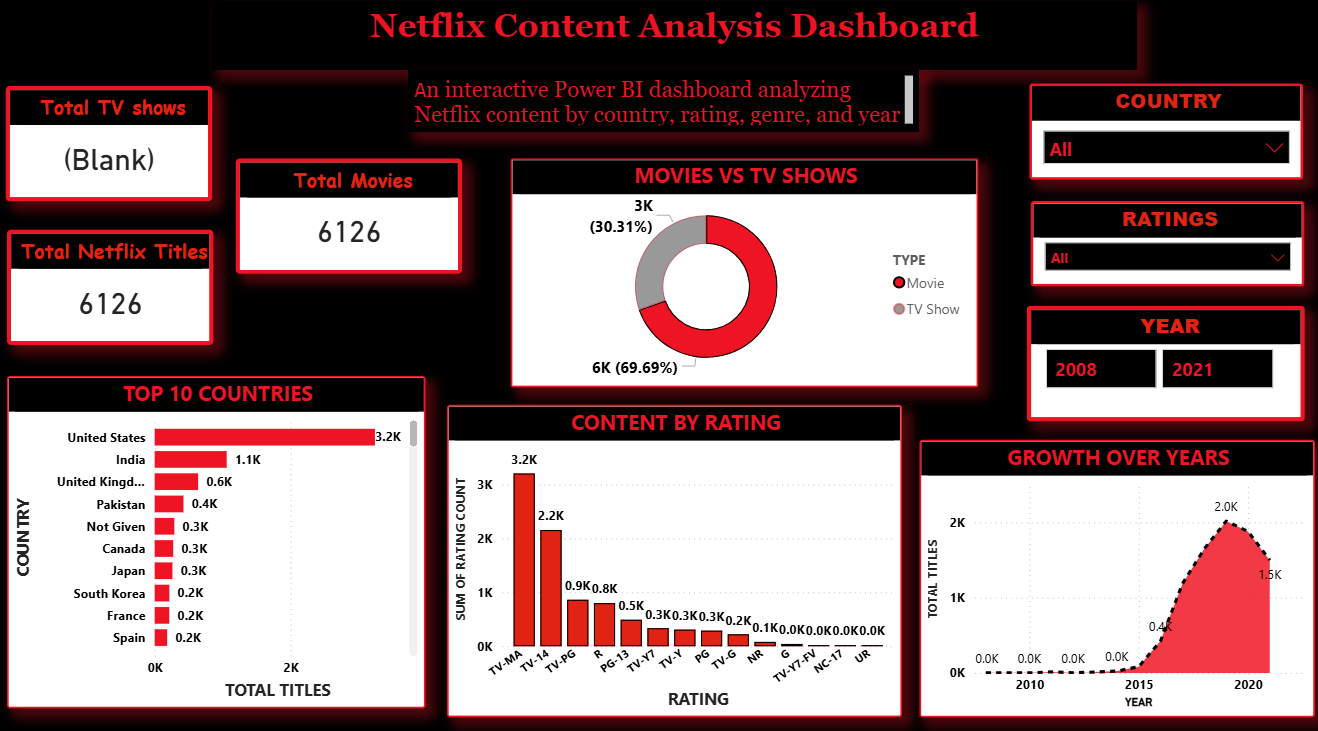

This screenshot's page, from the dashboard's own definition file:
{"tool":"powerbi","page":{"name":"Page 1","canvas":[1280,720],"ordinal":0},"visuals":[{"type":"donutChart","title":"MOVIES VS TV SHOWS","fields":{"Category":["report.TYPE"],"Y":["Sum(report.TOTAL_TITLES)"]},"box":[495.8,161.7,451.2,220.8],"z":0},{"type":"lineChart","title":"GROWTH OVER YEARS","fields":{"Category":["report (1).YEAR_ADDED"],"Y":["Sum(report (1).TITLES_ADDED)"]},"box":[890.4,433.1,381.2,267.8],"z":1000},{"type":"clusteredBarChart","title":"TOP 10 COUNTRIES","fields":{"Category":["report (2).COUNTRY"],"Y":["Sum(report (2).TOTAL_TITLES)"]},"box":[9.7,371.6,404.2,320.9],"z":2000},{"type":"clusteredColumnChart","title":"CONTENT BY RATING","fields":{"Category":["report (3).RATING"],"Y":["Sum(report (3).RATING_COUNT)"]},"box":[434.3,399.3,439.1,301.6],"z":3000},{"type":"card","title":"Total Netflix Titles","fields":{"Values":["Sum(report.TOTAL_TITLES)"]},"box":[9.7,230.4,199.1,111],"z":4000},{"type":"card","title":"Total Movies","fields":{"Values":["Sum(report.TOTAL_TITLES)"]},"box":[230.4,161.7,218.4,111],"z":5000},{"type":"card","title":"Total TV shows","fields":{"Values":["Sum(report.TOTAL_TITLES)"]},"box":[8.4,91.7,199.1,111],"z":6000},{"type":"slicer","title":"COUNTRY","fields":{"Values":["report (2).COUNTRY"]},"box":[996.5,89.3,264.2,92.9],"z":7000},{"type":"slicer","title":"RATINGS","fields":{"Values":["report (3).RATING"]},"box":[997.7,202.7,264.2,82],"z":8000},{"type":"slicer","title":"YEAR","fields":{"Values":["report (1).YEAR_ADDED"]},"box":[994.1,304,267.8,111],"z":9000},{"type":"textbox","box":[207.5,9.7,892.8,66.4],"z":10000},{"type":"textbox","box":[396.9,76,510.3,60.3],"z":11000}]}

Visuals, with their boxes in screenshot pixels (x1, y1, x2, y2), scaled from the page's 1280x720 canvas onto the 1318x731 screenshot:
"MOVIES VS TV SHOWS" donutChart: crop(511, 164, 975, 388)
"GROWTH OVER YEARS" lineChart: crop(917, 440, 1309, 712)
"TOP 10 COUNTRIES" clusteredBarChart: crop(10, 377, 426, 703)
"CONTENT BY RATING" clusteredColumnChart: crop(447, 405, 899, 712)
"Total Netflix Titles" card: crop(10, 234, 215, 347)
"Total Movies" card: crop(237, 164, 462, 277)
"Total TV shows" card: crop(9, 93, 214, 206)
"COUNTRY" slicer: crop(1026, 91, 1298, 185)
"RATINGS" slicer: crop(1027, 206, 1299, 289)
"YEAR" slicer: crop(1024, 309, 1299, 421)
textbox: crop(214, 10, 1133, 77)
textbox: crop(409, 77, 934, 138)
